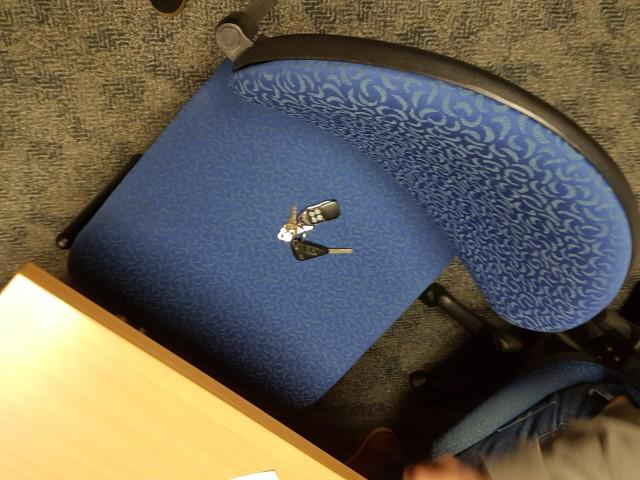key: (285, 236, 357, 263)
